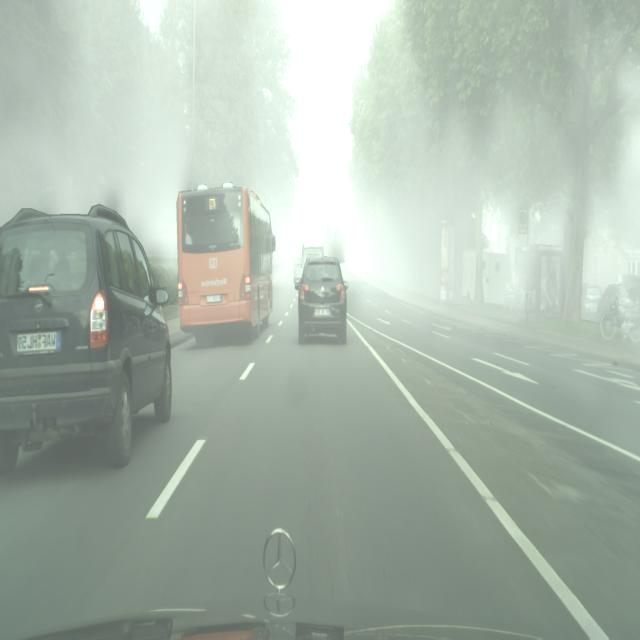bicycle: (177, 183, 275, 338)
car: (599, 298, 639, 342)
truck: (1, 204, 172, 474), (297, 257, 348, 344), (581, 283, 602, 321), (294, 256, 304, 287)
